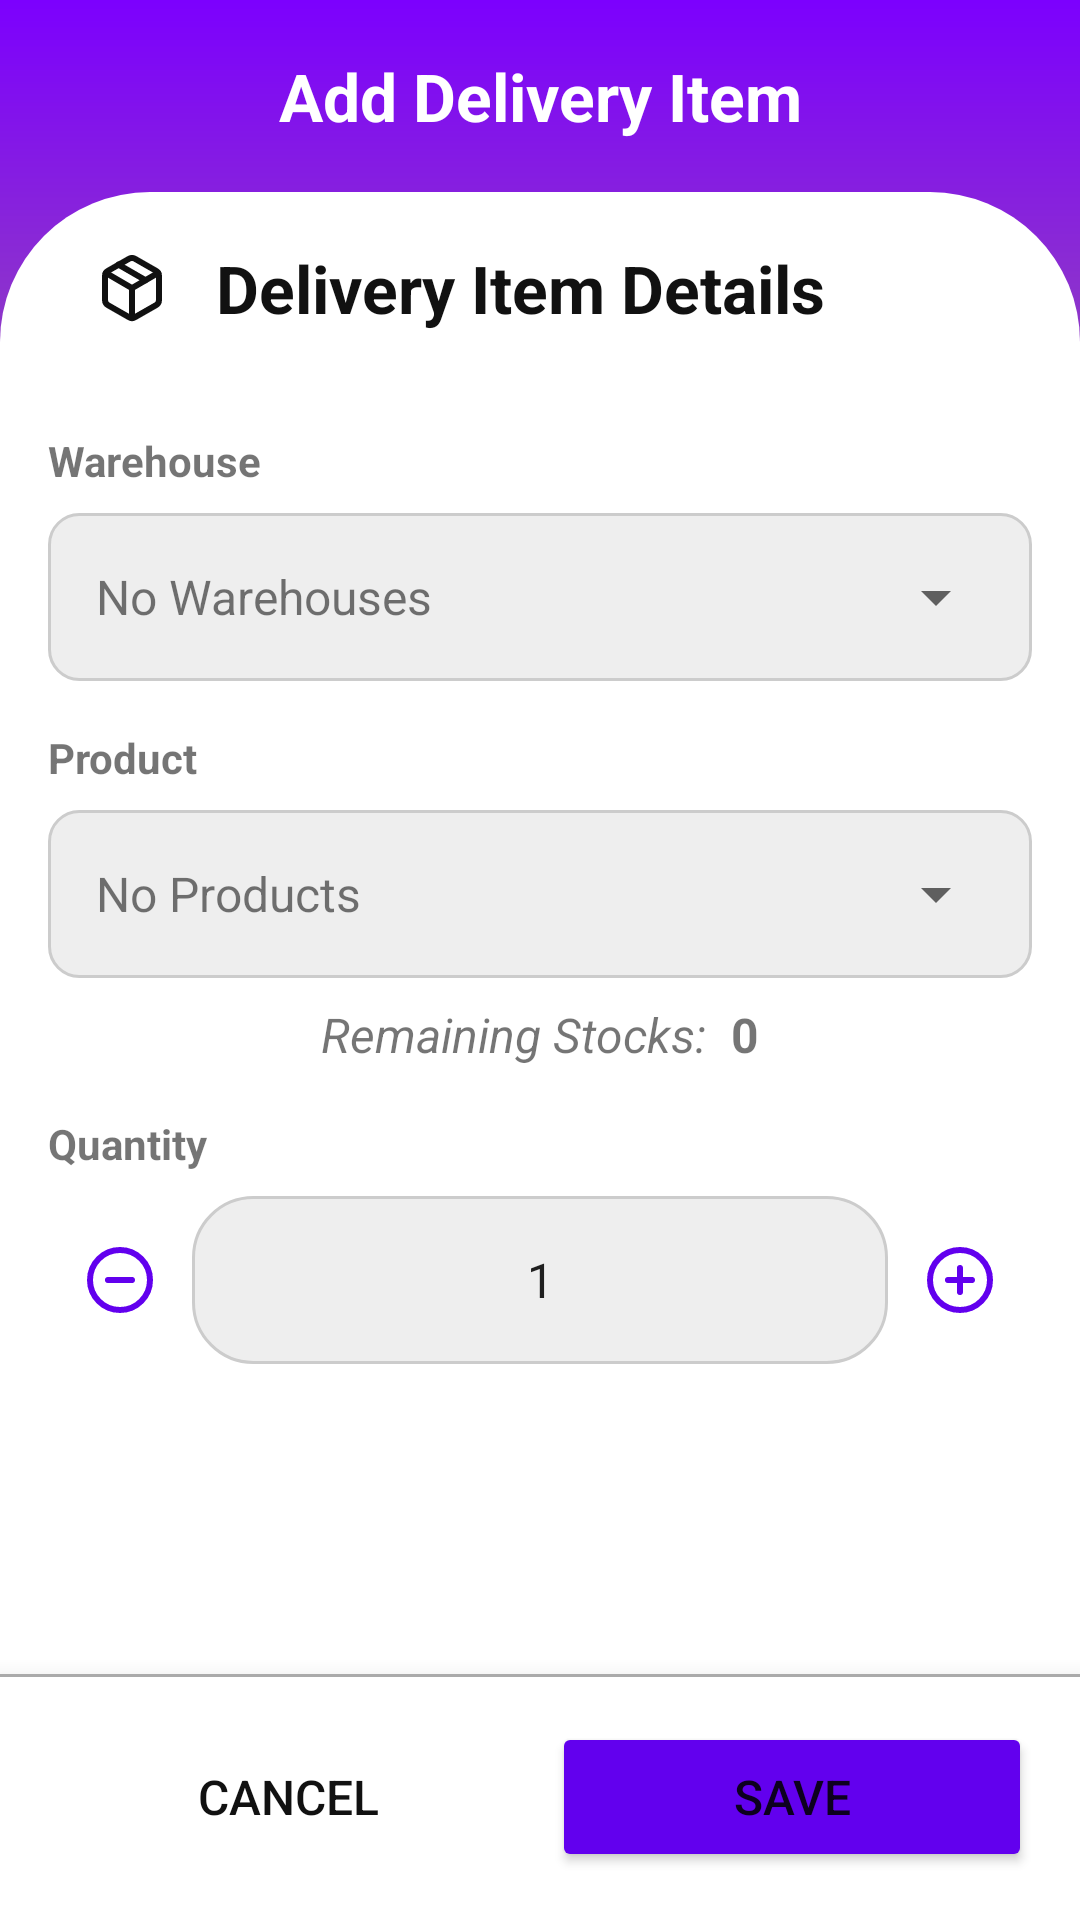

Icon click points for this 1080 × 1920 phone screenshot, format (x,y):
minus circle: (120,1280)
plus circle: (960,1280)
